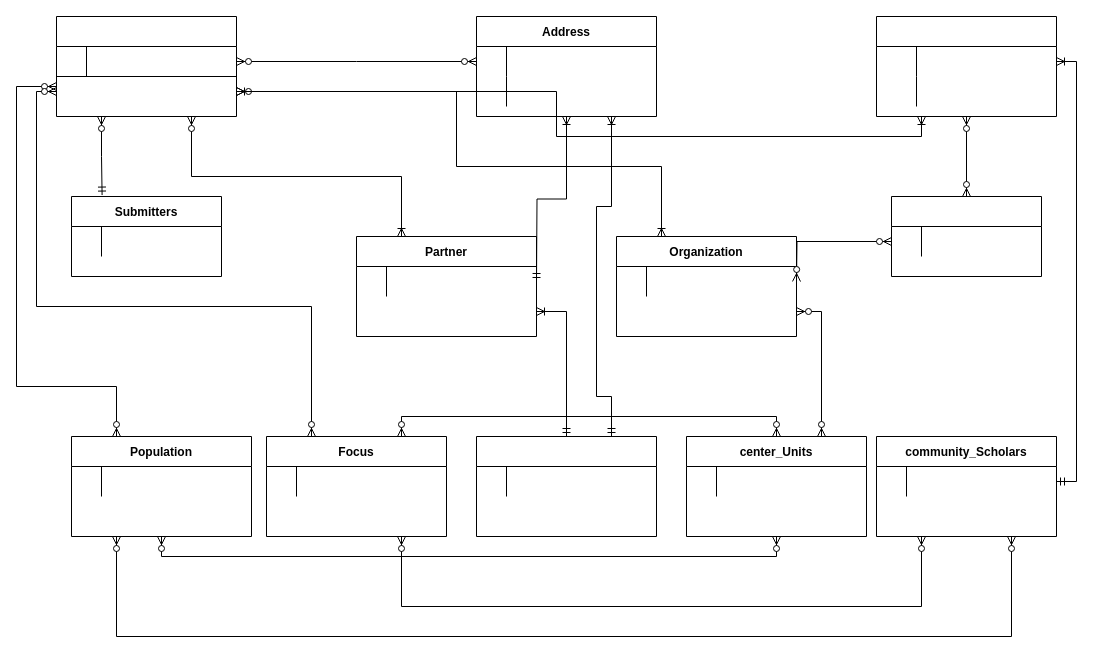
Image size: 1093x653. Some labels were removed from this diagram. The shapes that lost their labels are listed below. From the top down, each one's box as (x1, y1, x2, y2) in pixels, then its label:
(56, 16, 236, 116): Projects
(876, 16, 1056, 116): Faculty
(890, 196, 1042, 276): user_Feedback
(476, 436, 656, 536): Umbrella
